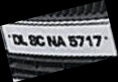character: (66, 35, 78, 47), (46, 35, 57, 46), (18, 34, 28, 46), (56, 35, 66, 47), (92, 34, 101, 47), (35, 35, 45, 46), (75, 35, 84, 47), (12, 34, 21, 45), (28, 34, 36, 46), (85, 35, 93, 46)
